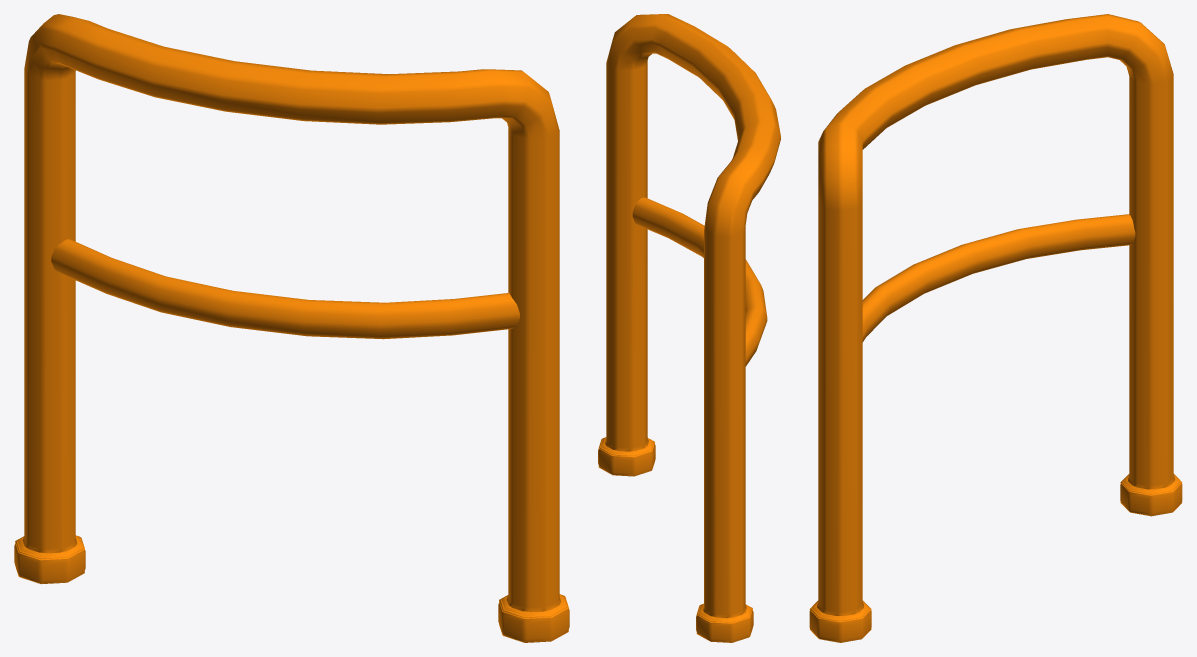
File: FenceCorner.fbx
The picture shows the model from 3 angles, left to right: view 1: azimuth 30°, elevation 25°; view 2: azimuth 150°, elevation 25°; view 3: azimuth 270°, elevation 25°; orthographic projection. The views are drawn at different scales.
Visible parts, largest first — view 1: Plane.002; view 2: Plane.002; view 3: Plane.002.
Boxes of the visible parts, x1,y1,x2,y2 form: Plane.002: (14,14,569,642); Plane.002: (598,14,780,642); Plane.002: (809,14,1182,642).
Size of the model in its own units: 61.74 by 91.94 by 63.63.
